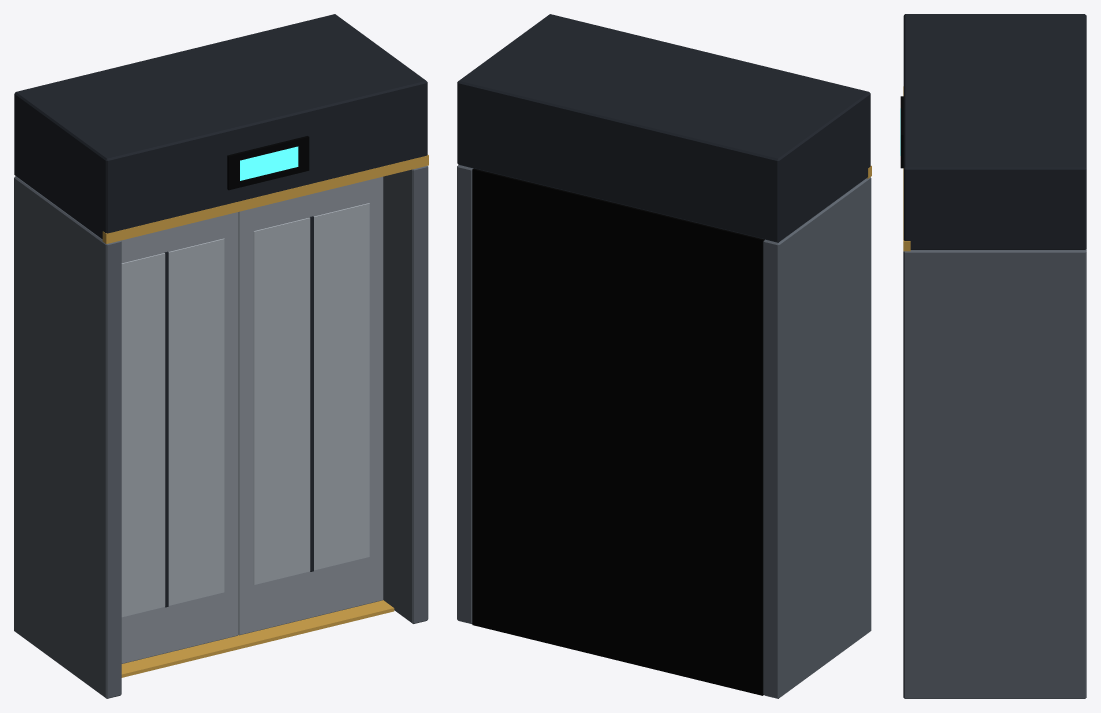
Rendered from elevator_door.glb.
3 renders of one model, left to right at view 1: azimuth 30°, elevation 25°; view 2: azimuth 150°, elevation 25°; view 3: azimuth 270°, elevation 25°, orthographic.
Visible parts, largest first — view 1: elevator_door, leafR, leafL; view 2: elevator_door; view 3: elevator_door.
Boxes of the visible parts, x1=… form: elevator_door: x1=14, y1=14, x2=428, y2=698; leafR: x1=238, y1=176, x2=383, y2=635; leafL: x1=121, y1=212, x2=238, y2=663; elevator_door: x1=457, y1=14, x2=871, y2=698; elevator_door: x1=900, y1=14, x2=1086, y2=698.
Bounding box in the file's own units: 2 × 3.2 × 1.02.
